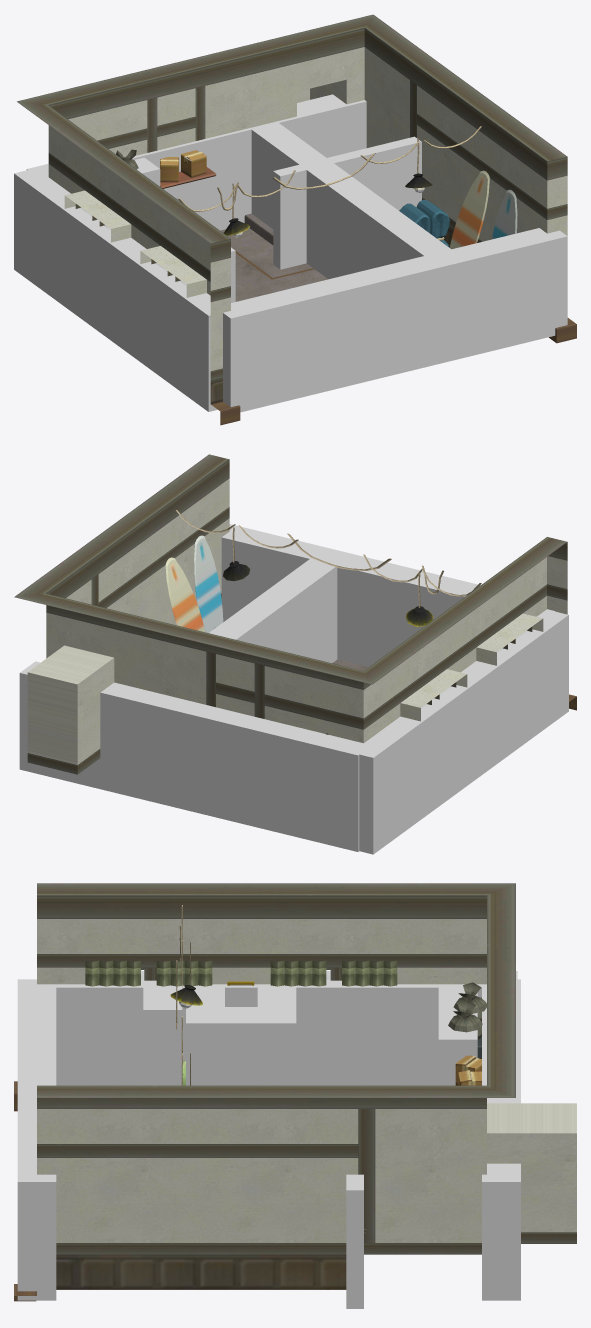
File: AboutShed.glb
3 views of the same model, one above another, from view 1: azimuth 30°, elevation 25°; view 2: azimuth 150°, elevation 25°; view 3: azimuth 270°, elevation 25° (orthographic). The views are drawn at different scales.
Parts seen in each view (by area): view 1: Scene, COLL_All3, COLL_All2, COLL_All1, COLL_All4, COLL_All5, COLL_All6; view 2: Scene, COLL_All4, COLL_All2, COLL_All3, COLL_All1; view 3: Scene, COLL_All2, COLL_All3, COLL_All10, COLL_All4, COLL_All9, COLL_All6, COLL_All5, COLL_All7, COLL_All8.
Part boxes in pixels (bbox=[...]): Scene: bbox=[17, 14, 576, 425]; COLL_All3: bbox=[223, 228, 567, 412]; COLL_All2: bbox=[14, 167, 235, 411]; COLL_All1: bbox=[250, 121, 463, 279]; COLL_All4: bbox=[26, 94, 366, 230]; COLL_All5: bbox=[273, 136, 421, 269]; COLL_All6: bbox=[31, 157, 160, 196]; Scene: bbox=[14, 454, 576, 774]; COLL_All4: bbox=[19, 661, 373, 851]; COLL_All2: bbox=[346, 609, 568, 854]; COLL_All3: bbox=[221, 524, 555, 666]; COLL_All1: bbox=[132, 550, 348, 695]; Scene: bbox=[14, 883, 576, 1301]; COLL_All2: bbox=[38, 971, 517, 1085]; COLL_All3: bbox=[17, 979, 56, 1300]; COLL_All10: bbox=[190, 1007, 292, 1085]; COLL_All4: bbox=[482, 979, 520, 1300]; COLL_All9: bbox=[143, 982, 182, 1085]; COLL_All6: bbox=[438, 984, 477, 1085]; COLL_All5: bbox=[346, 1174, 363, 1308]; COLL_All7: bbox=[257, 984, 296, 1085]; COLL_All8: bbox=[186, 984, 224, 1085].
Size of the model in its own units: 20.64 by 9.46 by 22.4.
16 materials, 16 textured.
